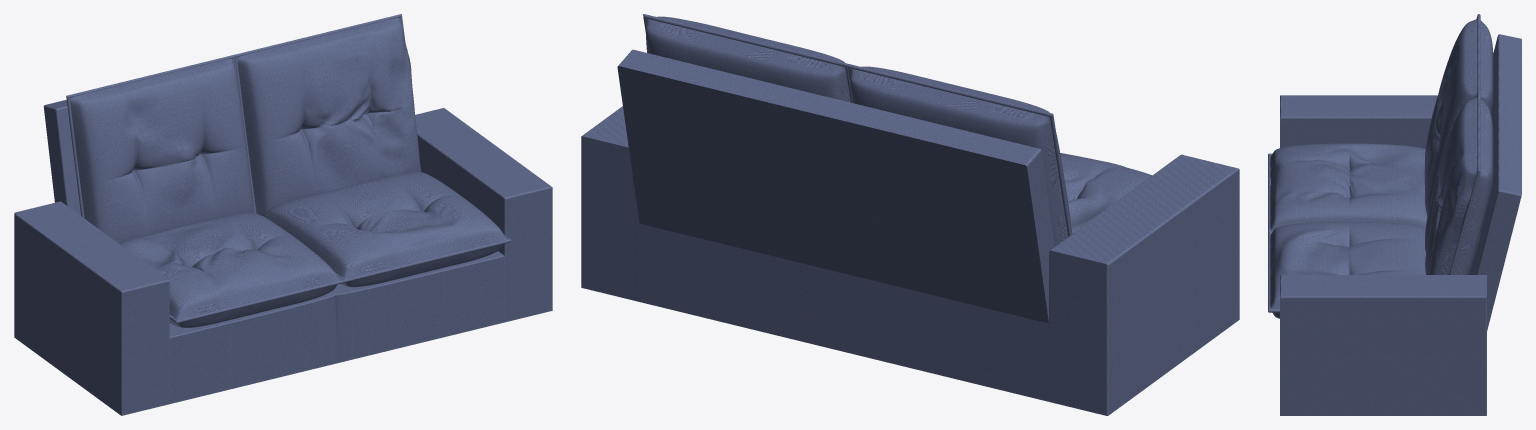
The model's file is Sofá Azul.glb.
3 views of the same model, side by side, from view 1: azimuth 30°, elevation 25°; view 2: azimuth 150°, elevation 25°; view 3: azimuth 270°, elevation 25° (orthographic). The views are drawn at different scales.
Parts seen in each view (by area): view 1: Sofá\Sólido (4), Sofá\Sólido (3), Componente2\Sólido11, Componente1\Sólido, Sofá\Sólido (2), Sofá\Sólido, Componente2\Sólido11 (2), Sólido1\Sólido1; view 2: Sólido1\Sólido1, Componente2\Sólido11, Componente1\Sólido, Sofá\Sólido (3), Componente2\Sólido11 (2), Sofá\Sólido (4), Sofá\Sólido; view 3: Componente2\Sólido11 (2), Sofá\Sólido, Sofá\Sólido (4), Sofá\Sólido (2), Componente2\Sólido11, Sólido1\Sólido1, Sofá\Sólido (3).
Boxes of the visible parts, x1=… form: Sofá\Sólido (4): x1=234, y1=14, x2=421, y2=215; Sofá\Sólido (3): x1=66, y1=55, x2=254, y2=243; Componente2\Sólido11: x1=14, y1=201, x2=169, y2=415; Componente1\Sólido: x1=169, y1=251, x2=504, y2=403; Sofá\Sólido (2): x1=263, y1=172, x2=511, y2=287; Sofá\Sólido: x1=118, y1=212, x2=344, y2=327; Componente2\Sólido11 (2): x1=415, y1=108, x2=552, y2=322; Sólido1\Sólido1: x1=43, y1=100, x2=81, y2=215; Sólido1\Sólido1: x1=617, y1=49, x2=1054, y2=323; Componente2\Sólido11: x1=1049, y1=154, x2=1239, y2=415; Componente1\Sólido: x1=639, y1=223, x2=1048, y2=401; Sofá\Sólido (3): x1=847, y1=64, x2=1072, y2=246; Componente2\Sólido11 (2): x1=581, y1=106, x2=639, y2=301; Sofá\Sólido (4): x1=643, y1=14, x2=851, y2=102; Sofá\Sólido: x1=1060, y1=153, x2=1151, y2=233; Componente2\Sólido11 (2): x1=1280, y1=275, x2=1486, y2=415; Sofá\Sólido: x1=1268, y1=143, x2=1427, y2=232; Sofá\Sólido (4): x1=1425, y1=92, x2=1493, y2=274; Sofá\Sólido (2): x1=1268, y1=222, x2=1425, y2=318; Componente2\Sólido11: x1=1280, y1=95, x2=1437, y2=148; Sólido1\Sólido1: x1=1469, y1=34, x2=1521, y2=330; Sofá\Sólido (3): x1=1424, y1=14, x2=1493, y2=215.
Size of the model in its own units: 3.93 by 2.02 by 2.09.
1 material, 1 textured.
